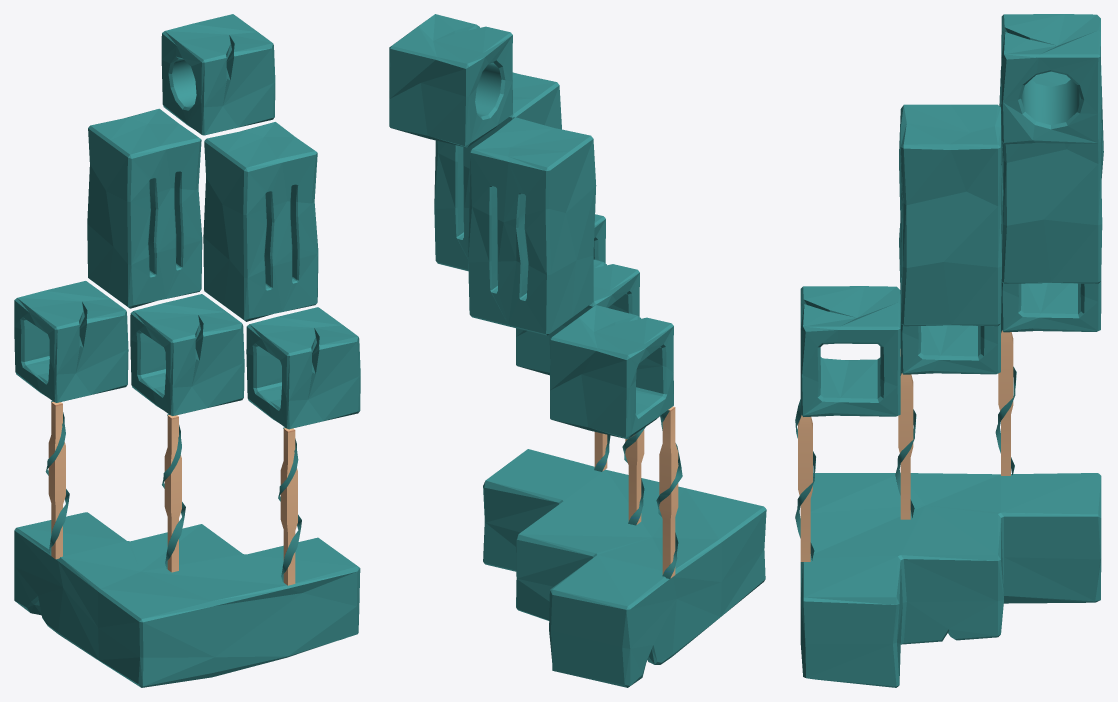
Rendered from Down_Up_env_old.fbx.
3 views of the same model, side by side, from view 1: azimuth 30°, elevation 25°; view 2: azimuth 150°, elevation 25°; view 3: azimuth 270°, elevation 25° (orthographic). The views are drawn at different scales.
Parts seen in each view (by area): view 1: Up_Down_env; view 2: Up_Down_env; view 3: Up_Down_env.
Part boxes in pixels (bbox=[...]): Up_Down_env: bbox=[14, 14, 360, 687]; Up_Down_env: bbox=[389, 14, 766, 687]; Up_Down_env: bbox=[795, 14, 1103, 687].
Bounding box in the file's own units: 31.37 × 69.82 × 30.81.
